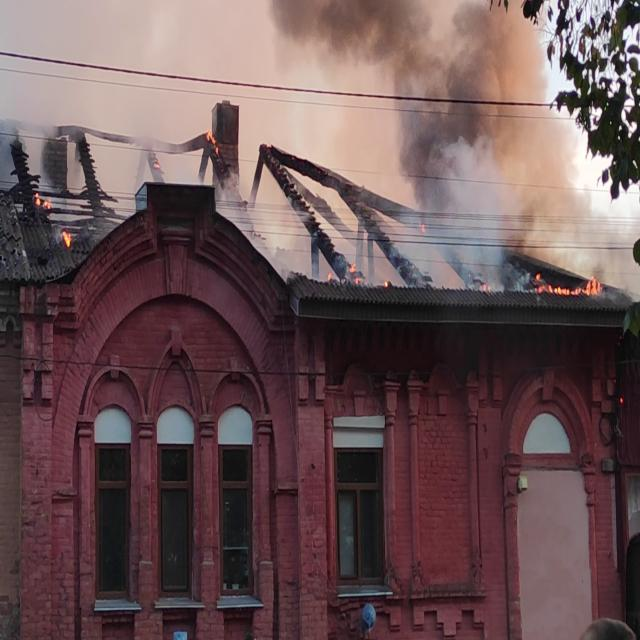fire: (528, 237, 607, 304)
smoke: (274, 0, 518, 294)
